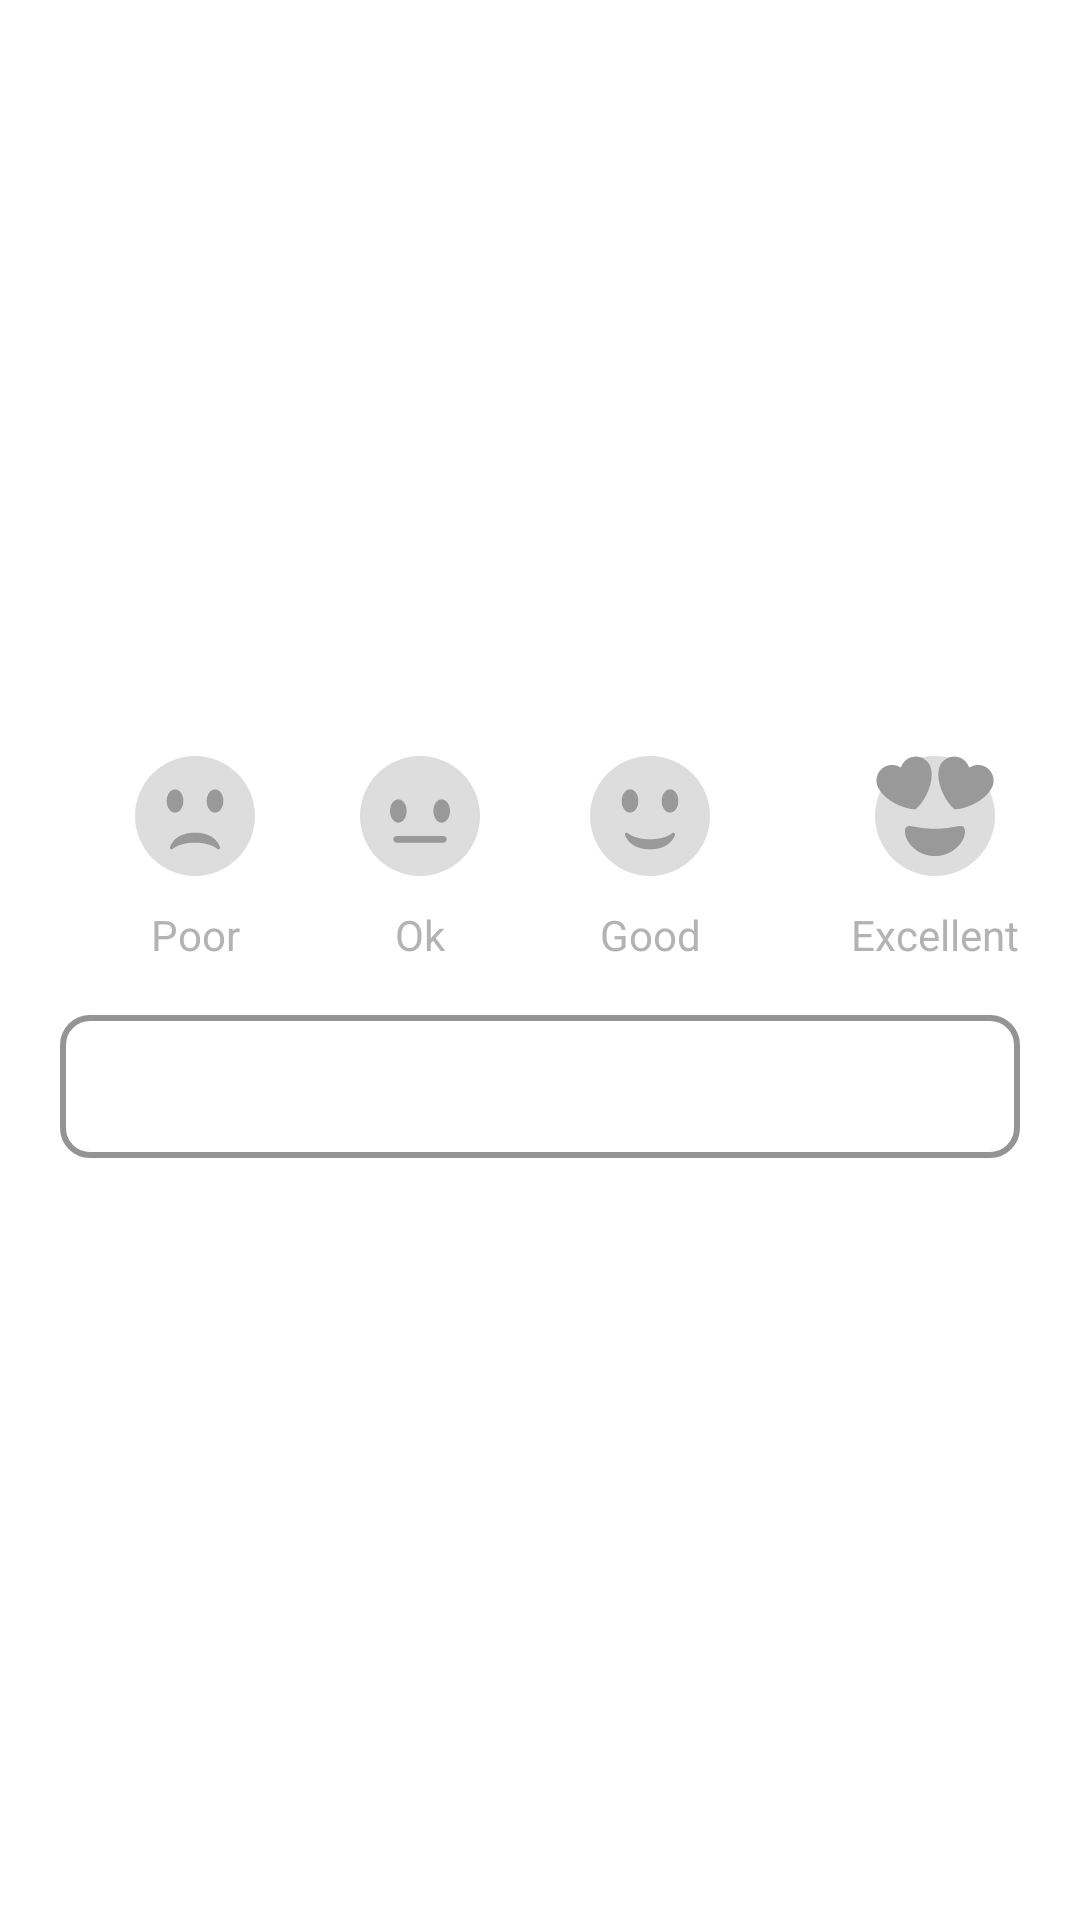

Icon click points for this 1080 x 1920 phone screenshot, format [x,y]:
emotionless emoji: [420,816]
happy emoji: [650,816]
hearteye emoji: [935,816]
sadface emoji: [195,816]
